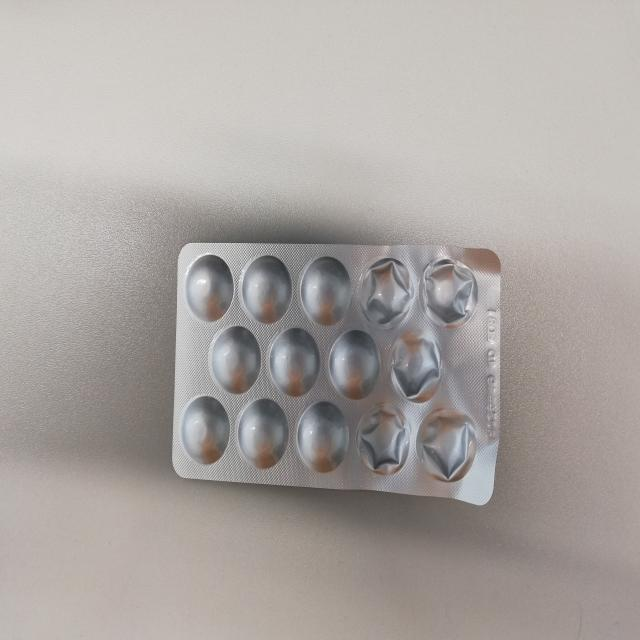Empty: (415, 406, 479, 484), (419, 255, 478, 330), (387, 329, 445, 404), (354, 403, 412, 476)
Pill: (356, 256, 416, 328), (294, 398, 350, 474), (236, 397, 290, 471), (299, 255, 353, 328), (326, 329, 382, 399), (268, 327, 321, 398), (241, 254, 294, 324), (210, 324, 262, 394), (183, 253, 234, 324), (180, 394, 230, 465)
